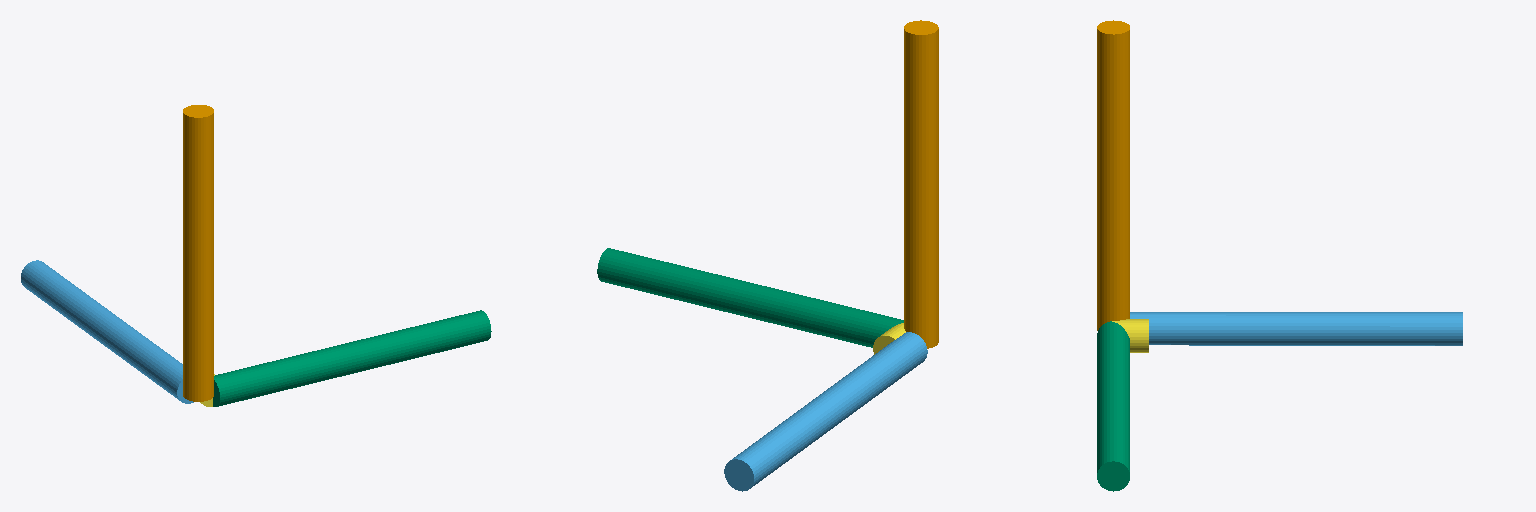
The robot description file, URDF, robot "2dof":
<?xml version="1.0" ?>

<robot name="2dof">

  <link name="base_link">
    <visual>
      <origin xyz="0 0. 0.5" rpy="0 0 0"/>
      <geometry>
        <cylinder length="1" radius="0.05"/>
      </geometry>
    </visual>
  </link>

  <link name="link1">
    <visual>
      <origin xyz="0. 0.55 0" rpy="1.57 0 0"/>
      <geometry>
        <cylinder length="1" radius="0.05"/>
      </geometry>
    </visual>
  </link>

  <link name="link2">
    <visual>
      <origin xyz="0.55 0. 0." rpy="0 1.57 0"/>
      <geometry>
        <cylinder length="1" radius="0.05"/>
      </geometry>
    </visual>
  </link>

<link name="link3">
    <visual>
      <origin xyz="0.05 0.05 0." rpy="1.57 0 0"/>
      <geometry>
        <cylinder length=".11" radius="0.05"/>
      </geometry>
    </visual>
  </link>

<!-- Joints -->
  <joint name="pz" type="prismatic">
    <parent link="base_link"/>
    <child link="link1"/>
    <origin xyz="0 0 0" rpy="0 0 0" />
    <axis xyz="0 0 1" />
    <limit effort="1000.0" lower="0." upper="1" velocity="1"/>
  </joint>

  <joint name="py" type="prismatic">
    <parent link="link1"/>
    <child link="link2"/>
    <origin xyz="0 0 0" rpy="0 0 0" />
    <axis xyz="0 1 0" />
    <limit effort="1000.0" lower="0." upper="1" velocity="1"/>
  </joint>

<joint name="px" type="prismatic">
    <parent link="link2"/>
    <child link="link3"/>
    <origin xyz="0 0 0" rpy="0 0 0" />
    <axis xyz="1 0 0" />
    <limit effort="1000.0" lower="0" upper="1" velocity="1"/>
  </joint>
</robot>

--- What the picture shows (computed from the rendered views, not written in the file) ---
Views: 3 orthographic renders of the robot side by side, from view 1: azimuth 30°, elevation 25°; view 2: azimuth 150°, elevation 25°; view 3: azimuth 270°, elevation 25°.
Model 2dof with 4 links and 3 joints (3 prismatic), rooted at base_link, posed every joint at zero.
Visible links, largest first — view 1: base_link, link2, link1; view 2: base_link, link2, link1; view 3: link1, base_link, link2, link3.
Boxes of the visible links, <box> form: base_link: <box>183,105,213,401</box>; link2: <box>213,310,491,406</box>; link1: <box>21,260,193,403</box>; base_link: <box>904,20,938,348</box>; link2: <box>597,248,903,347</box>; link1: <box>724,332,927,491</box>; link1: <box>1130,312,1462,345</box>; base_link: <box>1097,20,1129,330</box>; link2: <box>1097,321,1129,491</box>; link3: <box>1112,319,1148,352</box>.
Size in the robot's own frame: 1.1 by 1.1 by 1.05 metres.
Geometry: primitives only (box / cylinder / sphere), no mesh files.